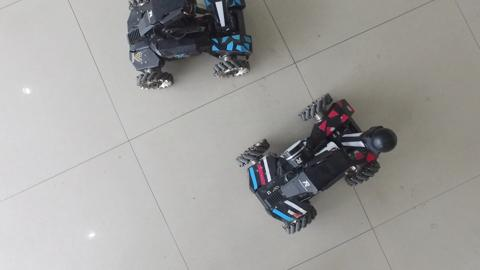chariot: (234, 87, 397, 240), (115, 1, 261, 104)
